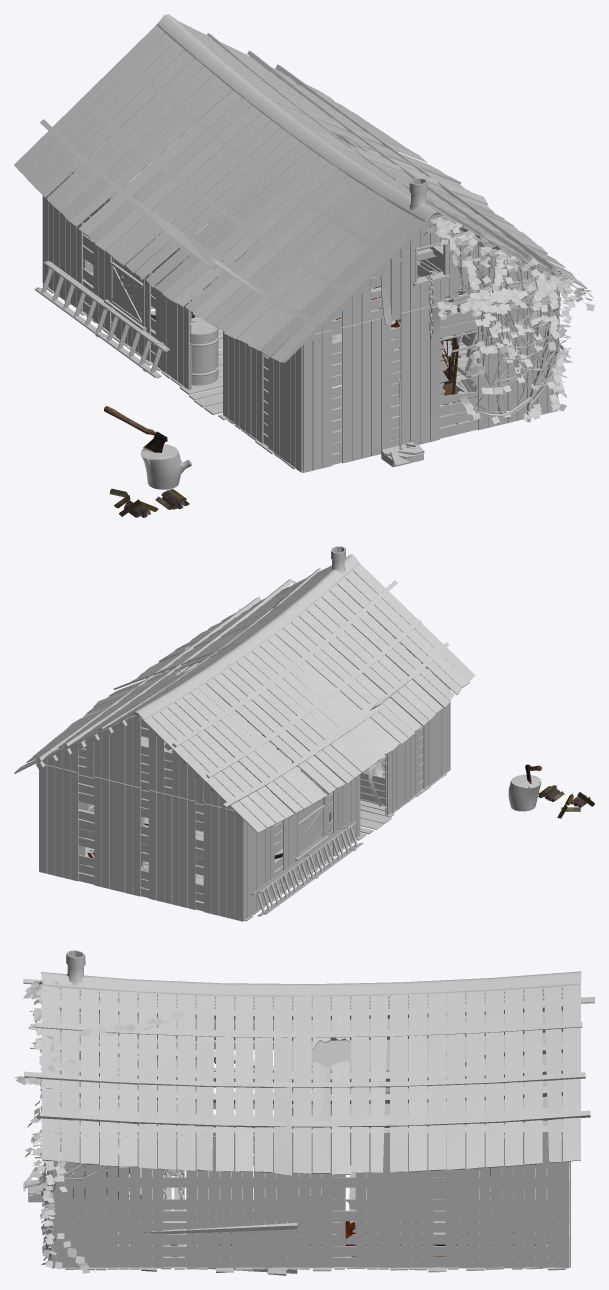
The model's file is Shed.FBX.
3 renders of one model, top to bottom at view 1: azimuth 30°, elevation 25°; view 2: azimuth 150°, elevation 25°; view 3: azimuth 270°, elevation 25°, orthographic. The views are drawn at different scales.
Parts seen in each view (by area): view 1: OldShed, Lierre, Grande EcheLle, Bidon, Tronc, Plaque, Hache, Bois Coupe001; view 2: OldShed, Grande EcheLle, Tronc, Caisse; view 3: OldShed, Lierre, Plafond, Petite Echelle, Tableau a Outils.
Part boxes in pixels (x1=…): OldShed: x1=14, y1=14, x2=586, y2=472; Lierre: x1=396, y1=179, x2=594, y2=431; Grande EcheLle: x1=34, y1=261, x2=169, y2=378; Bidon: x1=190, y1=317, x2=218, y2=386; Tronc: x1=140, y1=444, x2=191, y2=489; Plaque: x1=381, y1=442, x2=424, y2=467; Hache: x1=104, y1=406, x2=167, y2=452; Bois Coupe001: x1=109, y1=488, x2=158, y2=517; OldShed: x1=14, y1=546, x2=475, y2=921; Grande EcheLle: x1=251, y1=821, x2=363, y2=916; Tronc: x1=508, y1=774, x2=541, y2=811; Caisse: x1=360, y1=754, x2=421, y2=806; OldShed: x1=23, y1=950, x2=594, y2=1275; Lierre: x1=14, y1=976, x2=254, y2=1273; Plafond: x1=292, y1=1011, x2=562, y2=1126; Petite Echelle: x1=129, y1=1221, x2=297, y2=1273; Tableau a Outils: x1=377, y1=1154, x2=468, y2=1210.
Bounding box in the file's own units: 1275 × 665 × 1328.
